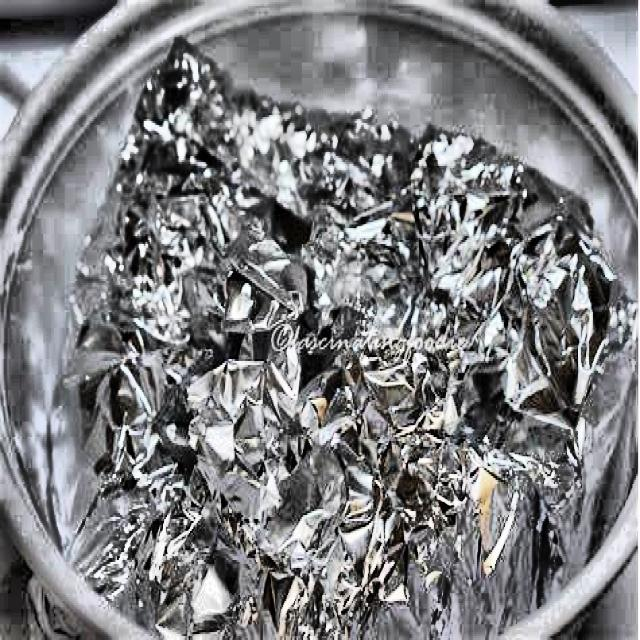Foil: (25, 30, 640, 639)
